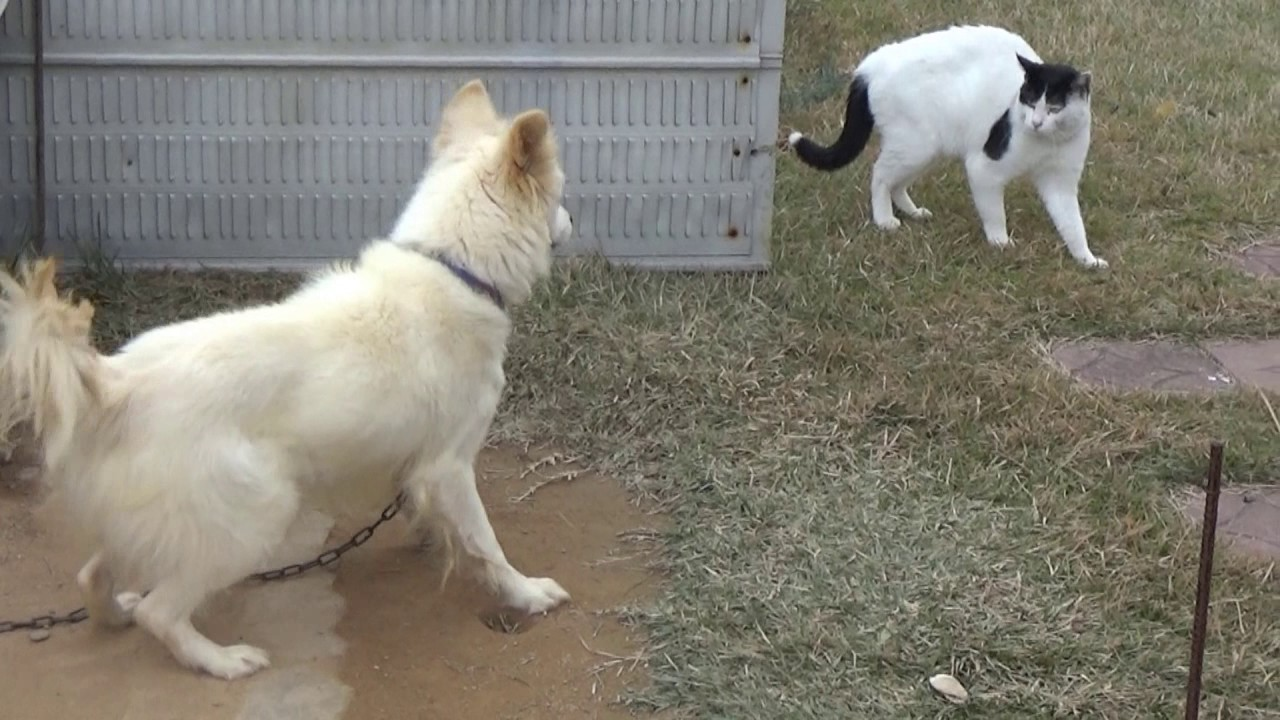cat: (802, 18, 1123, 272)
dog: (1, 73, 592, 679)
